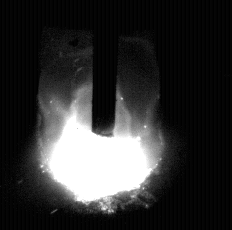arame: (92, 0, 117, 137)
poca: (34, 0, 166, 230)
